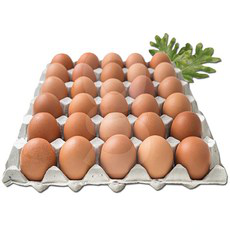egg: (20, 51, 211, 180)
